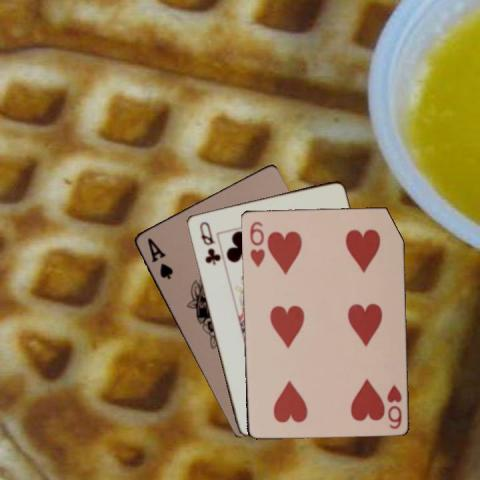6h: (383, 382, 403, 430), (247, 218, 266, 268)
As: (143, 235, 174, 281)
Qc: (196, 218, 221, 266)
